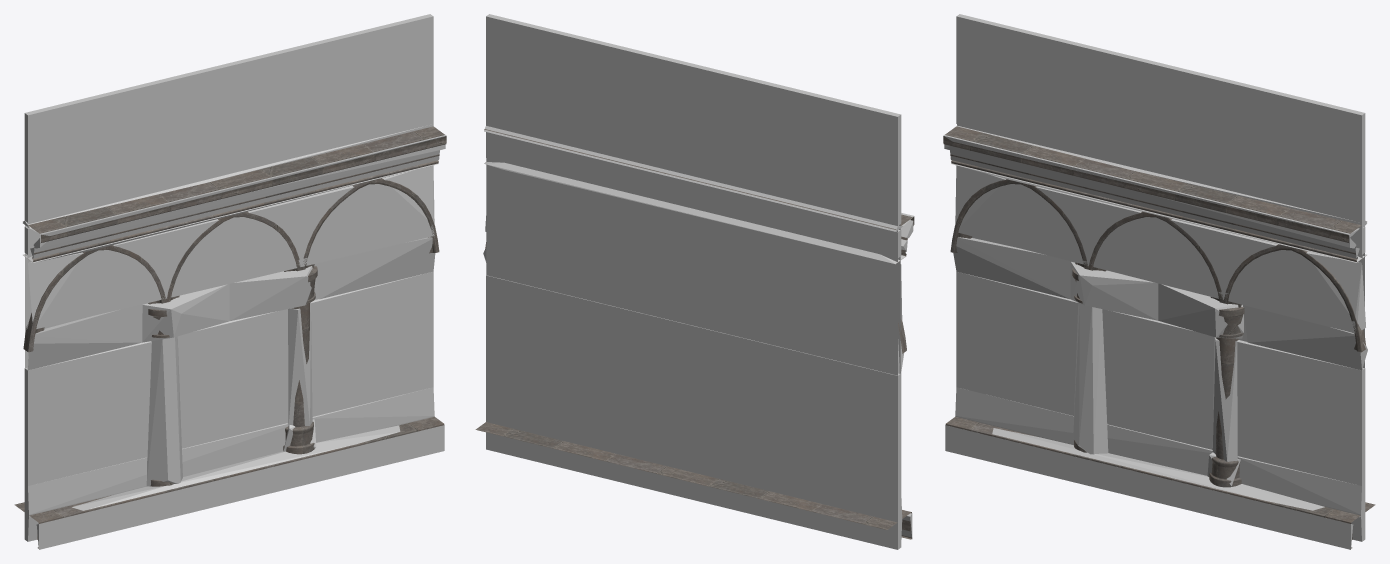
The model's file is SM_Decorative_Arches.fbx.
The picture shows the model from 3 angles, left to right: view 1: azimuth 30°, elevation 25°; view 2: azimuth 150°, elevation 25°; view 3: azimuth 330°, elevation 25°; orthographic projection.
Visible parts, largest first — view 1: SM_Decorative_Arches_ConvexHulls, SM_Decorative_Arches; view 2: SM_Decorative_Arches_ConvexHulls, SM_Decorative_Arches; view 3: SM_Decorative_Arches_ConvexHulls, SM_Decorative_Arches.
Boxes of the visible parts, <box> form: SM_Decorative_Arches_ConvexHulls: <box>23,14,446,549</box>; SM_Decorative_Arches: <box>14,126,446,548</box>; SM_Decorative_Arches_ConvexHulls: <box>483,14,913,549</box>; SM_Decorative_Arches: <box>475,129,914,539</box>; SM_Decorative_Arches_ConvexHulls: <box>943,14,1367,549</box>; SM_Decorative_Arches: <box>943,124,1375,548</box>.
Size of the model in its own units: 610 by 69.02 by 603.
